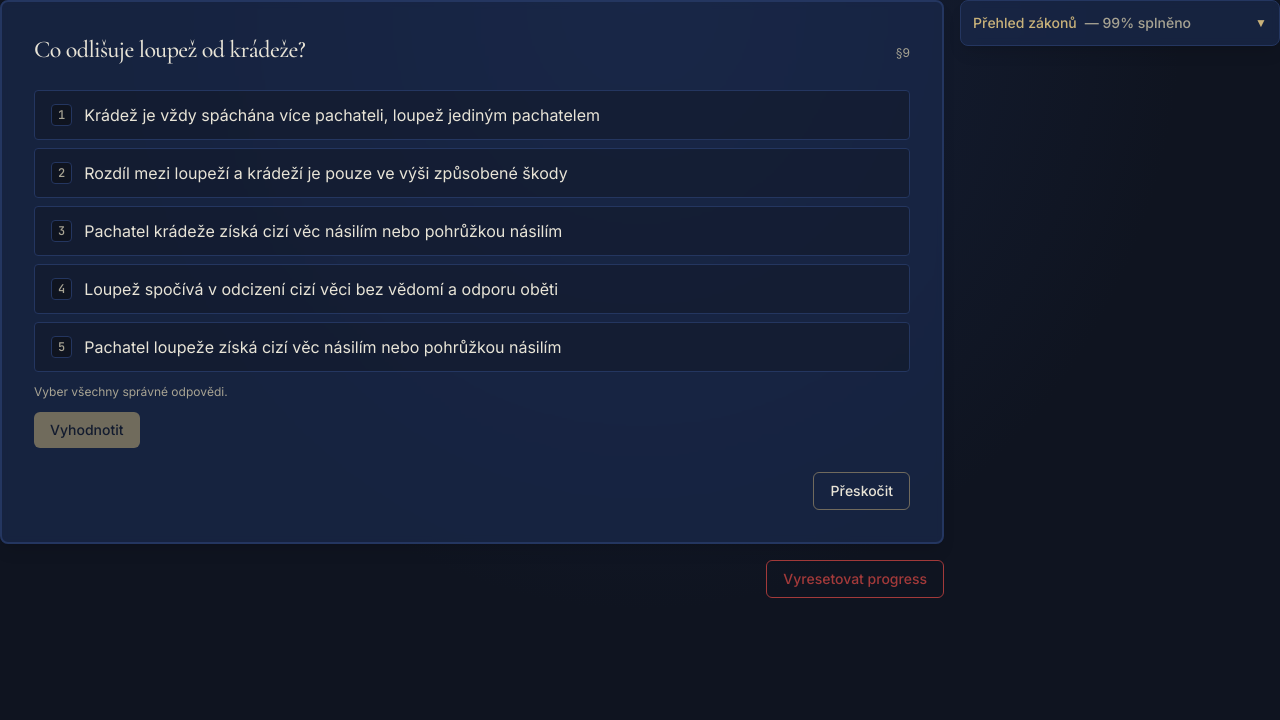
it: <LawPage /> — choice questions › reveals success when the correct option is selected and submitted
This screenshot has width=1280, height=720.
Check: the heading "Co odlišuje loupež od krádeže?" is shown, box [34,34,305,66]
Click the button with test id "law-choice-option-": (472, 347) [34,322,910,372]
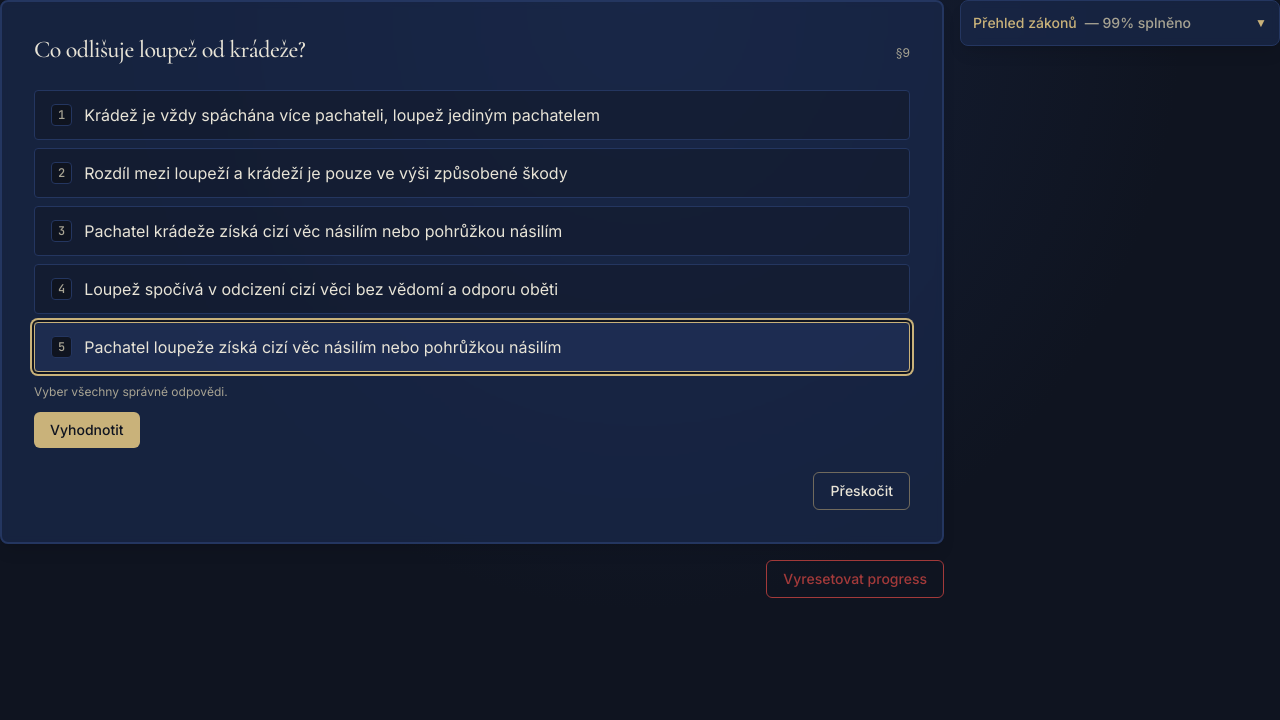
Click the button with test id "law-choice-submit": (87, 430) [34,412,140,448]
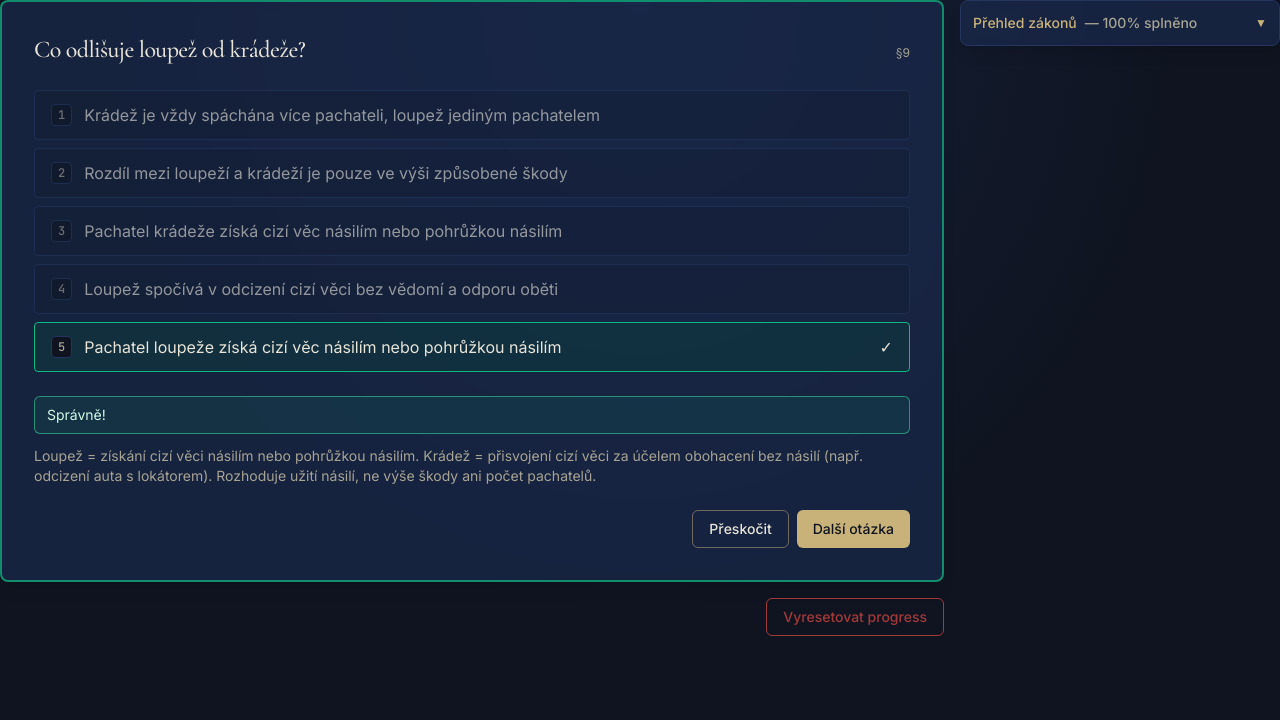
Check: the text "Správně!" is shown, box [34,396,910,434]
Check: the button with test id "law-next" is shown, box [797,510,910,548]
